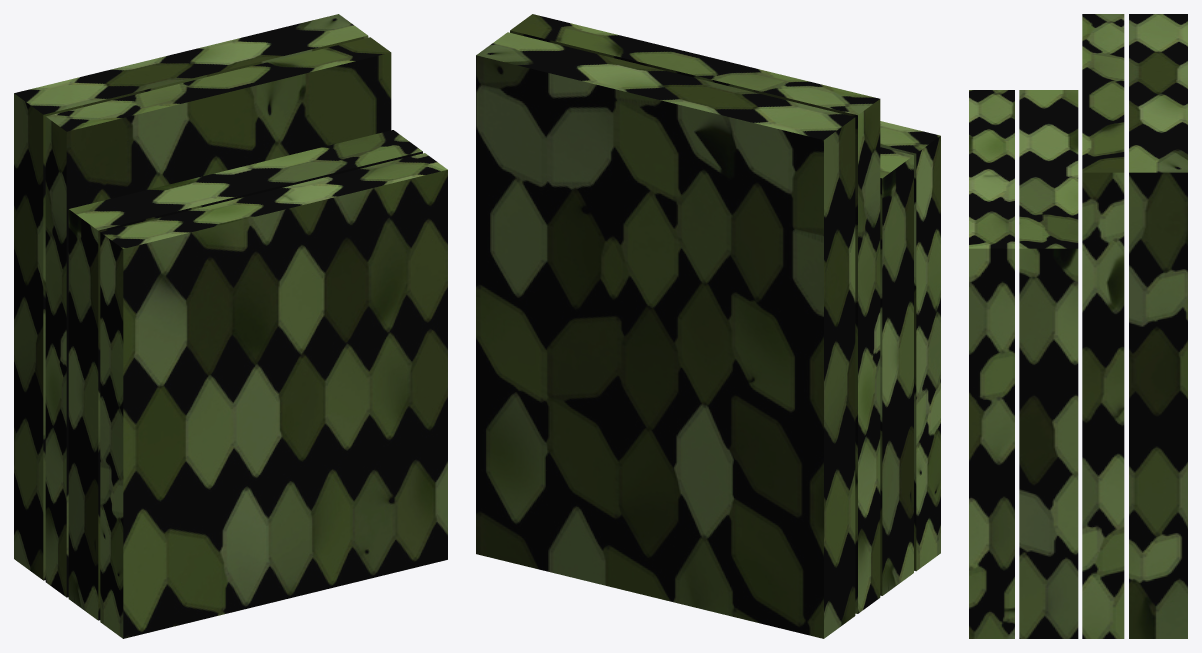
Rendered from modern_scandinavian_kitchen_island_8.obj.
3 renders of one model, left to right at view 1: azimuth 30°, elevation 25°; view 2: azimuth 150°, elevation 25°; view 3: azimuth 270°, elevation 25°, orthographic. The views are drawn at different scales.
Size of the model in its own units: 0.3249 by 0.4453 by 0.1892.
